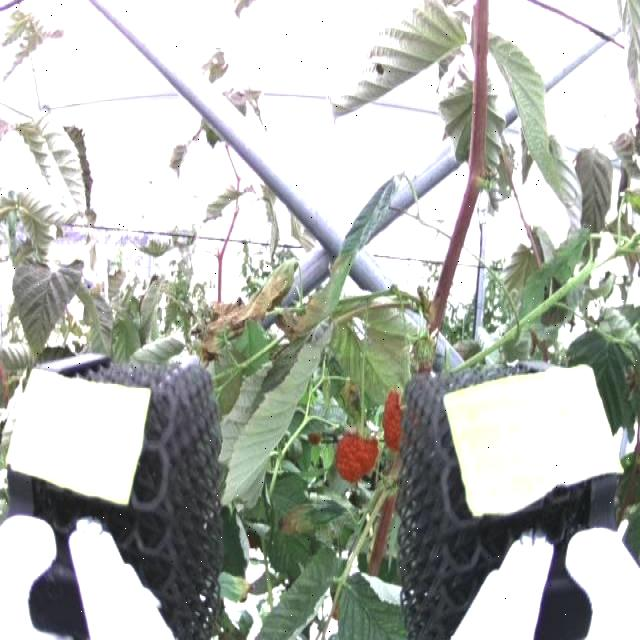Riped berries: (334, 424, 376, 486), (382, 385, 401, 456)
